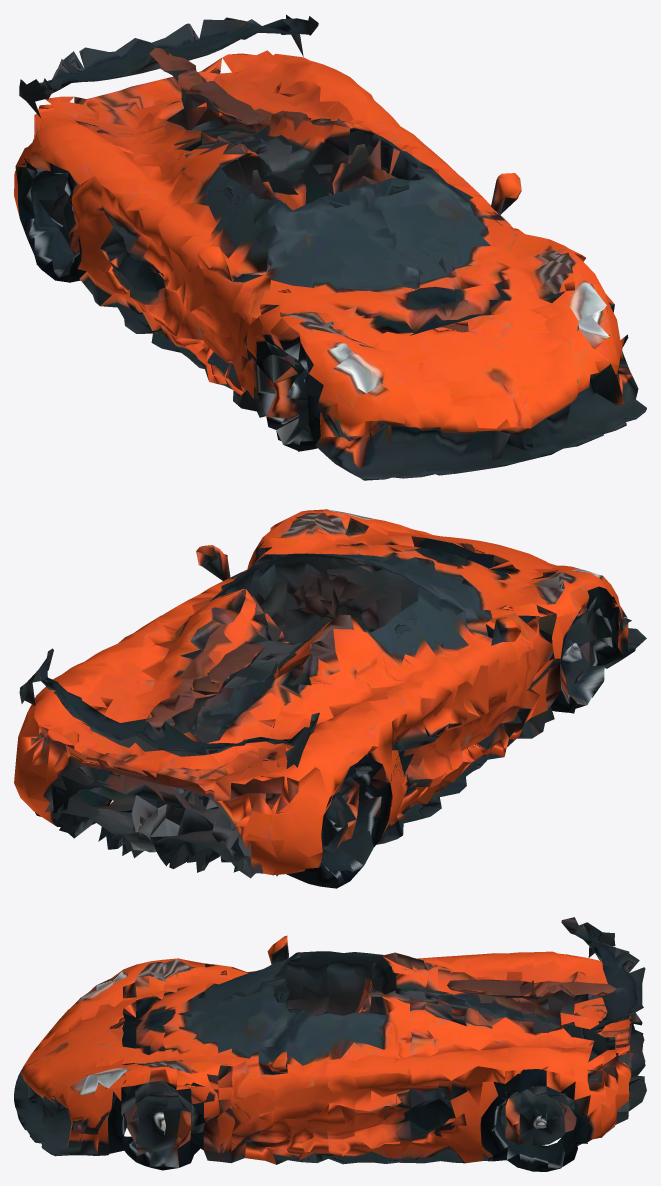
Rendered from sports.glb.
3 views of the same model, one above another, from view 1: azimuth 30°, elevation 25°; view 2: azimuth 150°, elevation 25°; view 3: azimuth 270°, elevation 25° (orthographic). The views are drawn at different scales.
Visible parts, largest first — view 1: sports-body; view 2: sports-body; view 3: sports-body.
Boxes of the visible parts, x1,y1,x2,y2 form: sports-body: (14,14,646,480); sports-body: (14,509,646,888); sports-body: (14,917,646,1171).
Bounding box in the file's own units: 2.05 × 1.11 × 4.35.
1 material, 1 textured.
